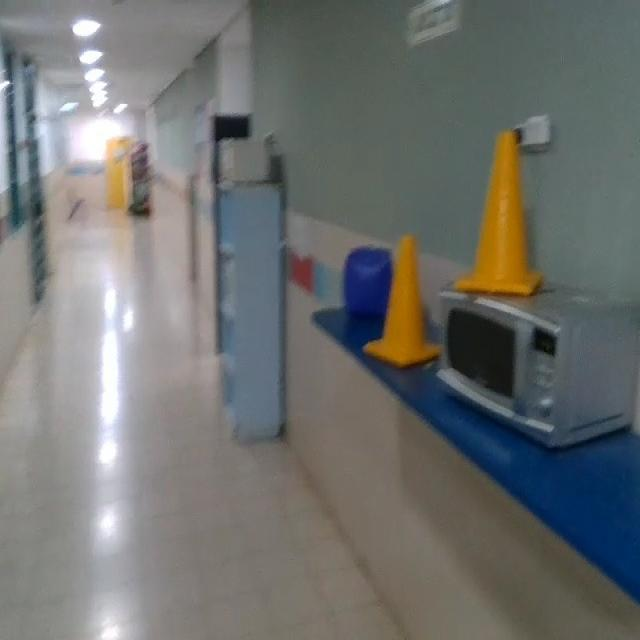cone: (452, 130, 546, 297), (362, 236, 446, 363)
cube: (345, 250, 392, 319)
